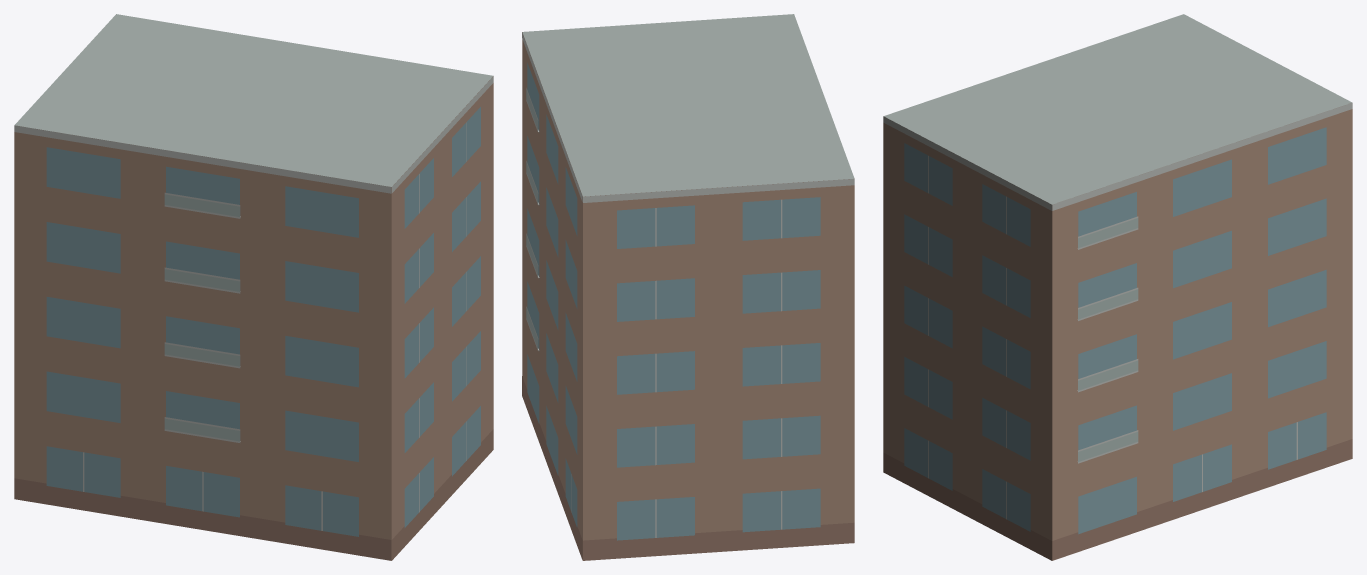
File: survey-upis-32742504.glb
The picture shows the model from 3 angles, left to right: view 1: azimuth 30°, elevation 25°; view 2: azimuth 150°, elevation 25°; view 3: azimuth 270°, elevation 25°; orthographic projection. The views are drawn at different scales.
Parts seen in each view (by area): view 1: survey-upis-32742504.tmp; view 2: survey-upis-32742504.tmp; view 3: survey-upis-32742504.tmp.
Part boxes in pixels (bbox=[...]): survey-upis-32742504.tmp: bbox=[14, 14, 493, 560]; survey-upis-32742504.tmp: bbox=[522, 14, 854, 560]; survey-upis-32742504.tmp: bbox=[883, 14, 1352, 560].
Size of the model in its own units: 15.62 by 13.6 by 16.24.
